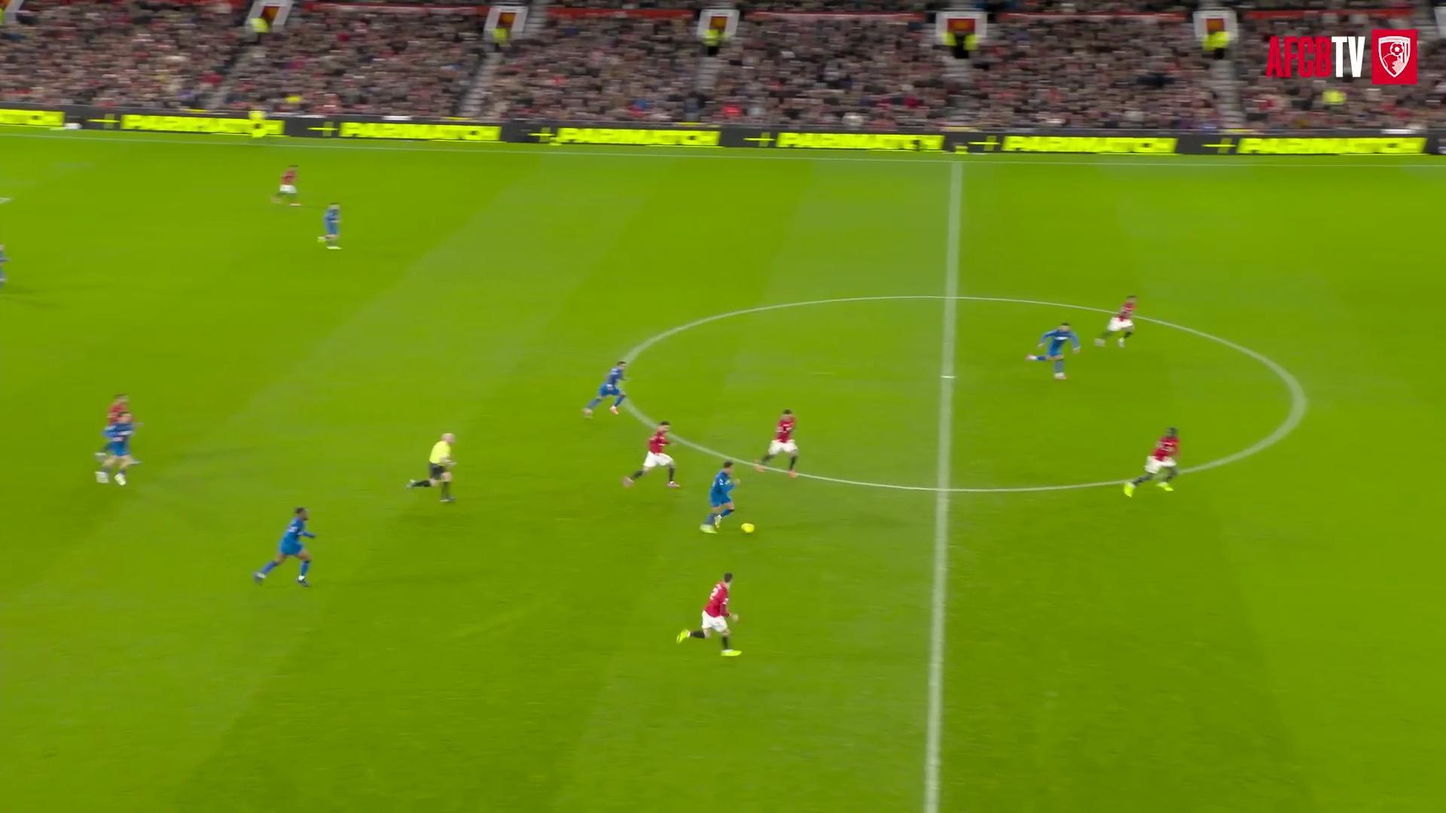football: (741, 522, 755, 533)
player: (676, 573, 740, 656), (253, 507, 315, 586), (1124, 427, 1179, 495), (623, 421, 677, 487), (1026, 323, 1080, 379), (96, 412, 136, 486), (755, 410, 797, 477), (700, 461, 737, 533), (584, 361, 627, 416), (1095, 295, 1136, 347), (273, 164, 299, 205), (318, 202, 340, 248), (105, 394, 128, 428), (0, 244, 8, 286)
referee: (407, 433, 454, 502)
